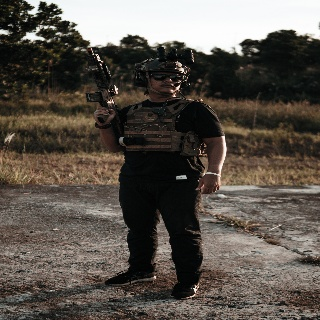rifle: (84, 46, 128, 139)
